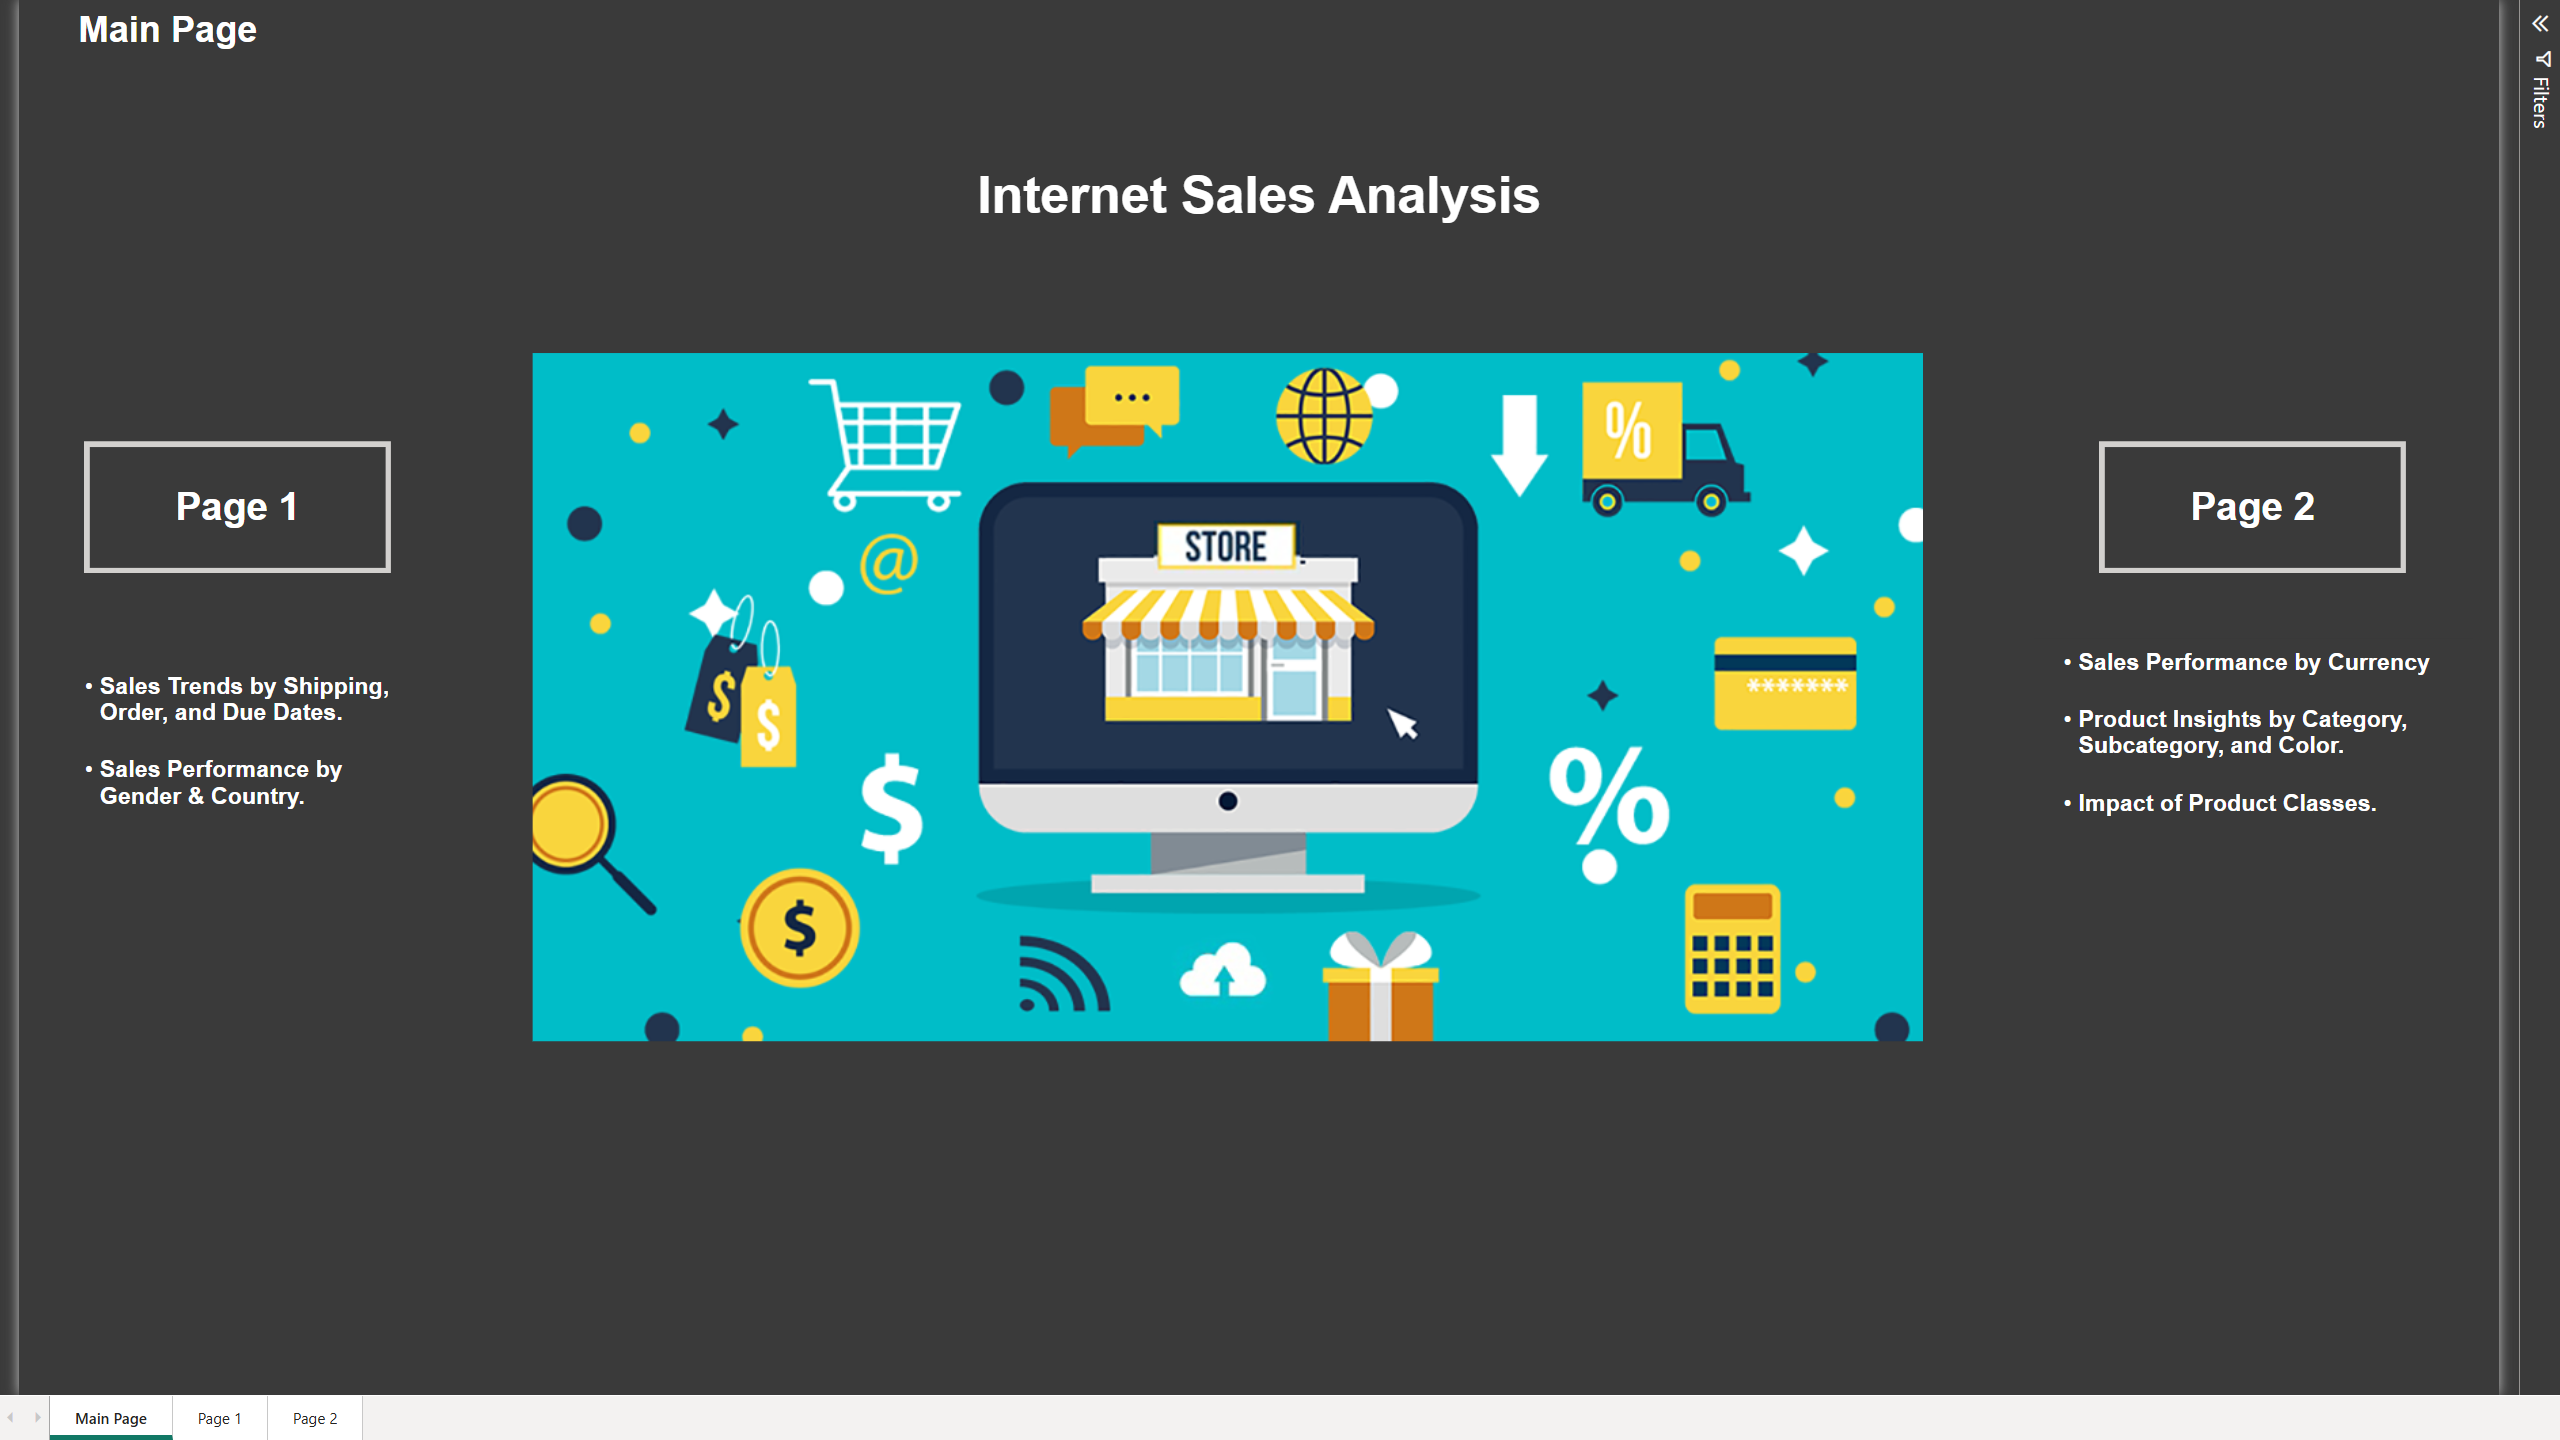

Layout of this report page (visuals, bound fields, positions):
{"tool":"powerbi","page":{"name":"Main Page","canvas":[1280,720],"ordinal":0},"visuals":[{"type":"actionButton","box":[33.4,227.8,158.7,68.4],"z":0},{"type":"actionButton","box":[1073.3,227.8,158.7,68.4],"z":1000},{"type":"textbox","box":[0,48.8,1280,112.3],"z":2000},{"type":"textbox","box":[0,0,153.8,39.9],"z":3000},{"type":"textbox","box":[18.7,341.8,194.5,169.3],"z":4000},{"type":"textbox","box":[1040,329.6,226.2,213.2],"z":5000},{"type":"image","box":[218.9,177.4,810.5,365.4],"z":6000}]}

Visuals, with their boxes on the page's 1280x720 design canvas (x1, y1, x2, y2). These are canvas units, not pixel positions in the 2560x1440 screenshot, which may show the page scaled, cropped or inside an application window:
actionButton: 33,228,192,296
actionButton: 1073,228,1232,296
textbox: 0,49,1280,161
textbox: 0,0,154,40
textbox: 19,342,213,511
textbox: 1040,330,1266,543
image: 219,177,1029,543
